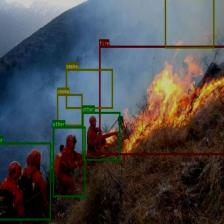fire: (98, 45, 224, 154)
smoke: (164, 0, 214, 48), (65, 68, 112, 108), (57, 94, 82, 126)
